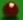brown: (0, 0, 23, 20)
